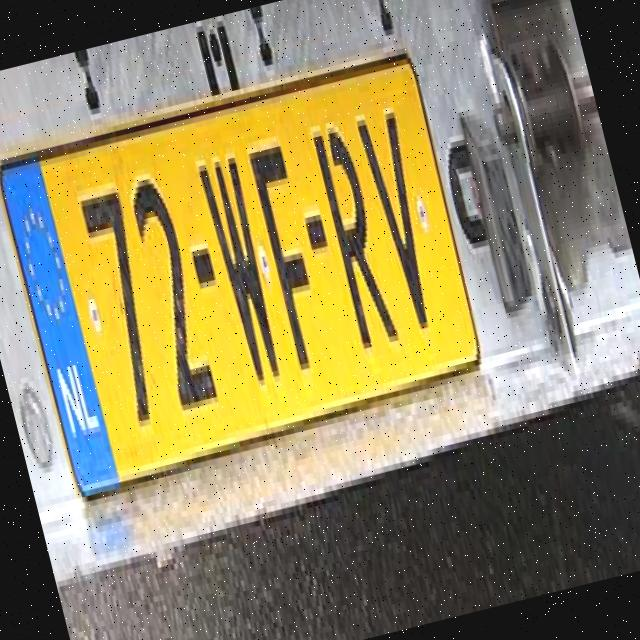EU: (0, 53, 480, 513)
Pays-Bas: (3, 163, 121, 484)
